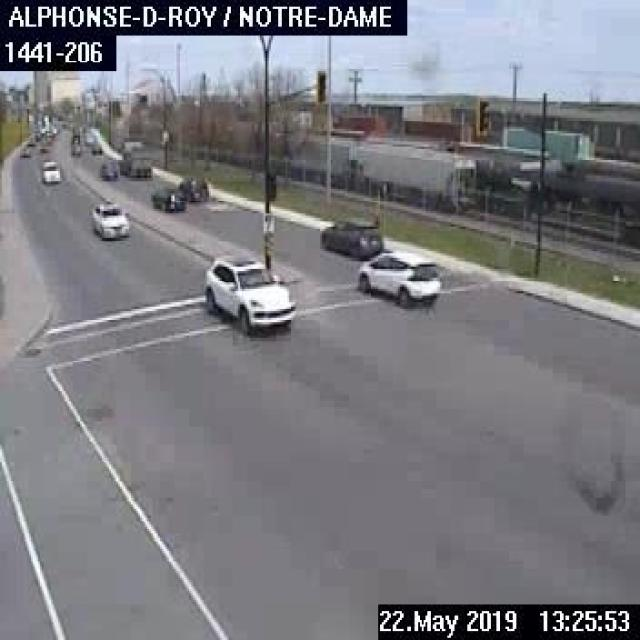vehicle: (200, 251, 295, 333), (356, 245, 438, 305), (319, 211, 383, 258), (87, 198, 129, 238), (119, 138, 151, 177), (176, 171, 210, 202), (151, 181, 188, 209), (40, 158, 60, 182), (99, 156, 118, 177), (17, 144, 32, 158)
